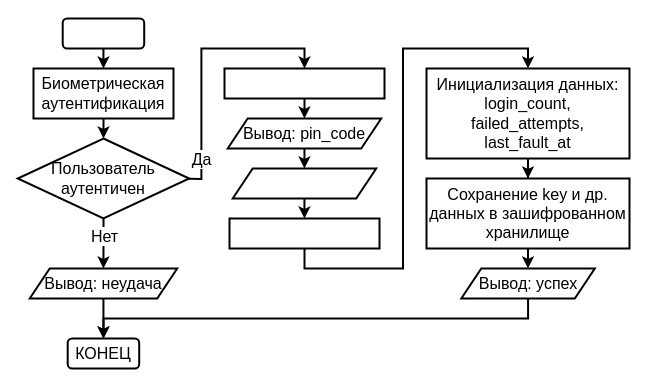
Image size: 648x386. Some labels were removed from this diagram. The centre of each missing label's shape, as x and y in pixels:
Ввод: key_part: pixel 304 183
Генерация pin_code: pixel 304 83
НАЧАЛО: pixel 103 33
Формирование key: pixel 304 233
